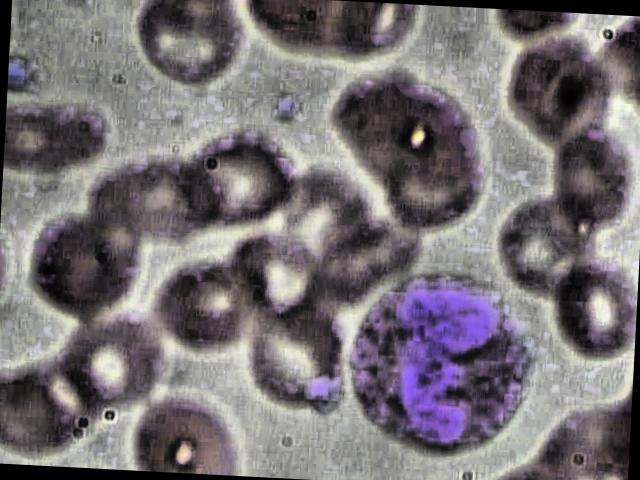Platelets: (269, 86, 307, 125)
RBC: (499, 31, 624, 156), (55, 310, 182, 414), (184, 127, 310, 230), (240, 303, 358, 412), (122, 0, 249, 92), (4, 90, 126, 180), (542, 253, 640, 364), (126, 390, 246, 476), (549, 123, 640, 224)
WBC: (334, 265, 552, 458)
